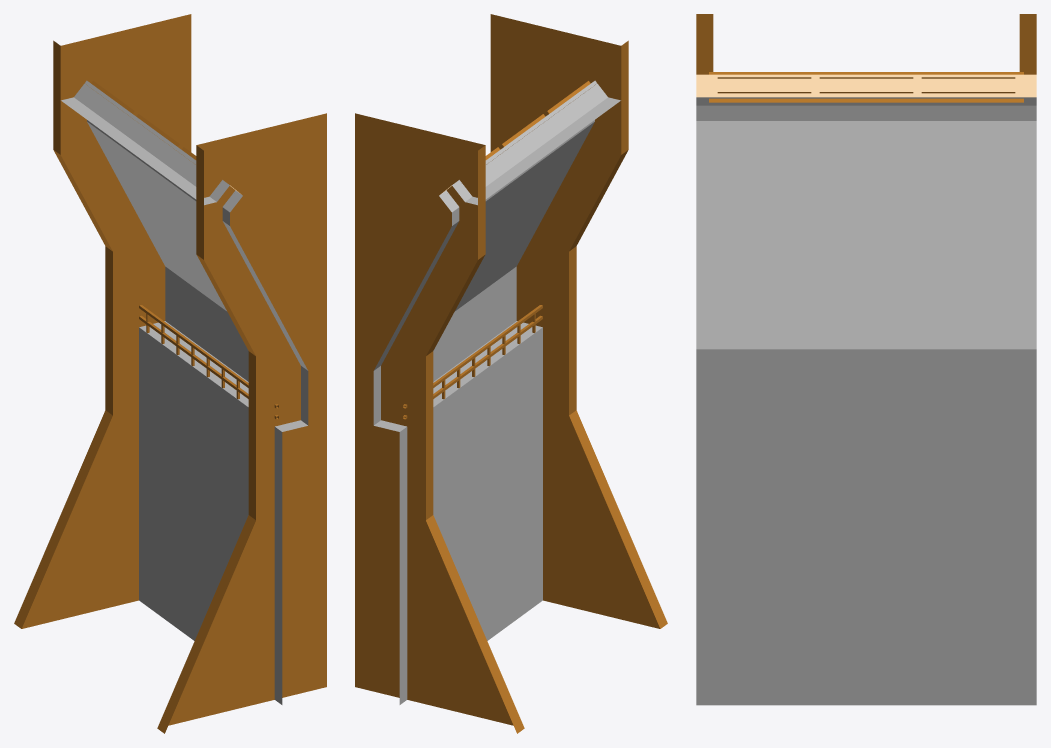
The model's file is wall.glb.
The picture shows the model from 3 angles, left to right: view 1: azimuth 30°, elevation 25°; view 2: azimuth 150°, elevation 25°; view 3: azimuth 270°, elevation 25°; orthographic projection. The views are drawn at different scales.
Visible parts, largest first — view 1: wall; view 2: wall; view 3: wall.
Part boxes in pixels (bbox=[...]): wall: bbox=[14, 14, 326, 733]; wall: bbox=[355, 14, 667, 733]; wall: bbox=[696, 14, 1036, 705].
Bounding box in the file's own units: 13 × 42 × 20.
